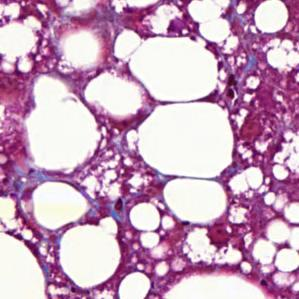steatosis: (140, 100, 239, 180)
